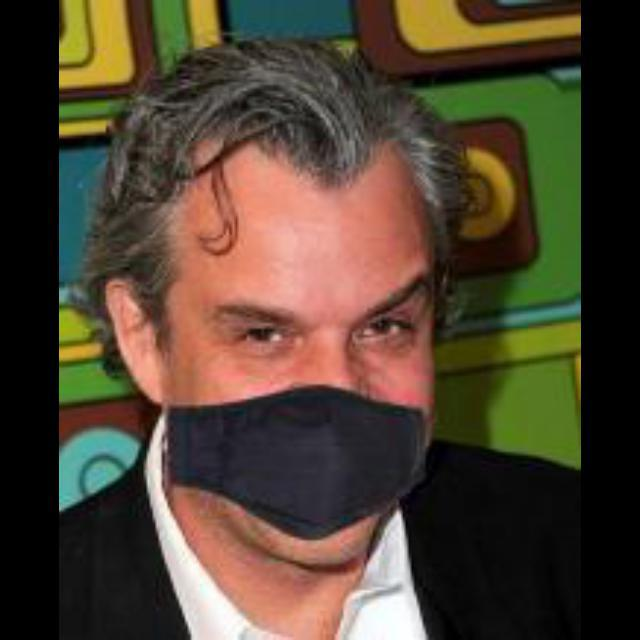suspicion: (117, 90, 460, 546)
